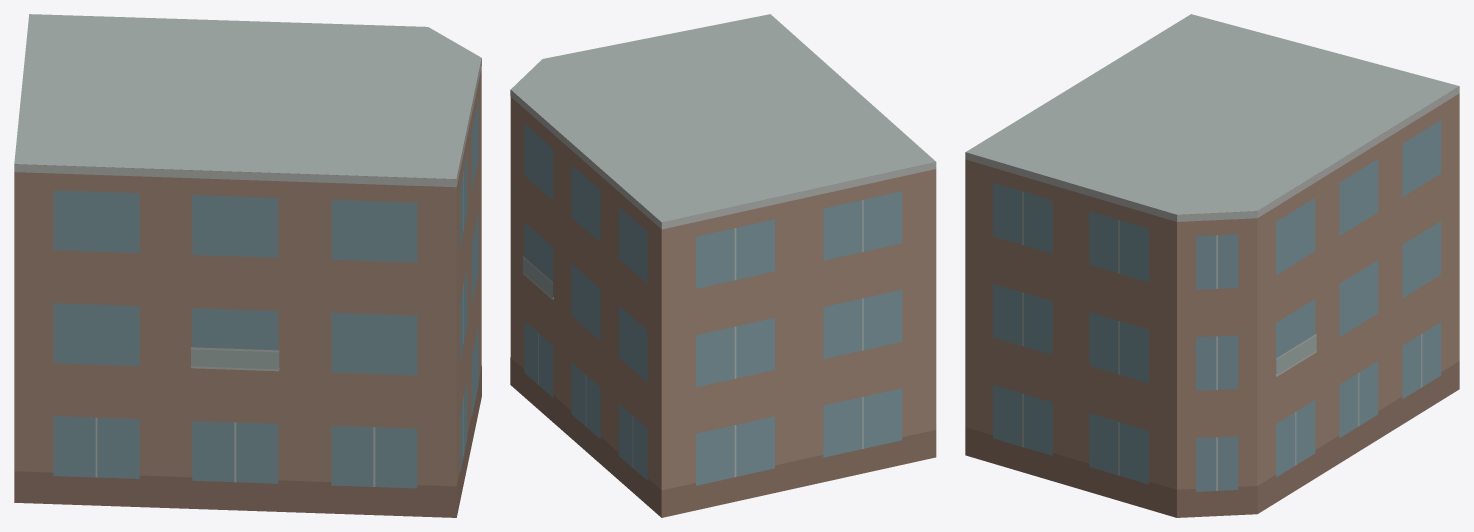
File: survey-upis-32629470.glb
3 views of the same model, side by side, from view 1: azimuth 30°, elevation 25°; view 2: azimuth 150°, elevation 25°; view 3: azimuth 270°, elevation 25° (orthographic). The views are drawn at different scales.
Visible parts, largest first — view 1: survey-upis-32629470.tmp; view 2: survey-upis-32629470.tmp; view 3: survey-upis-32629470.tmp.
Part boxes in pixels (left/top/right/bottom): survey-upis-32629470.tmp: left=14, top=14, right=481, bottom=517; survey-upis-32629470.tmp: left=510, top=14, right=936, bottom=517; survey-upis-32629470.tmp: left=965, top=14, right=1459, bottom=517.
Bounding box in the file's own units: 14.49 × 10.2 × 15.08.
